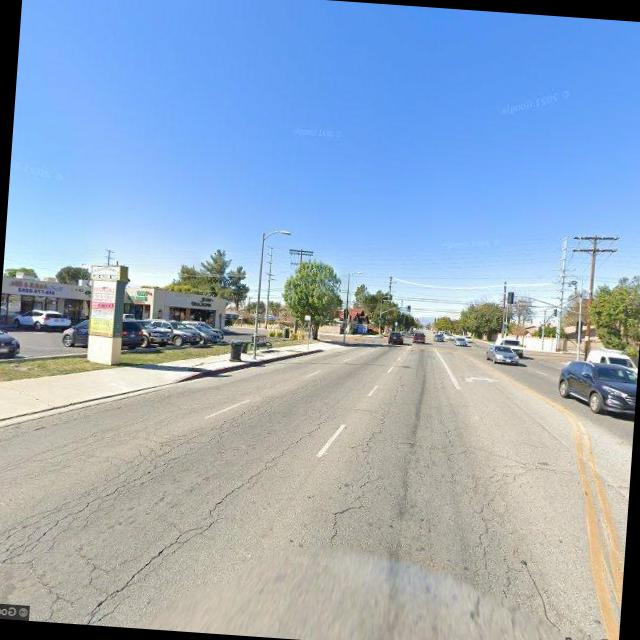crack: (438, 443, 550, 611)
pothole: (85, 396, 336, 629), (0, 387, 255, 575), (330, 376, 402, 530)
